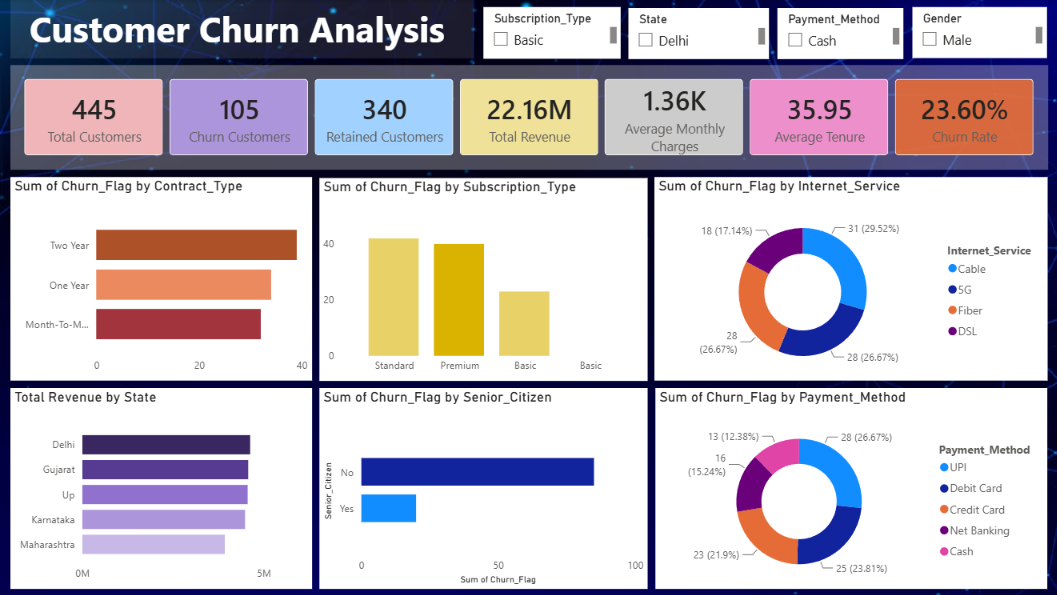

The page's visual inventory and layout, read from the dashboard file:
{"tool":"powerbi","page":{"name":"Page 1","canvas":[1280,720],"ordinal":0},"visuals":[{"type":"cardVisual","fields":{"Data":["DAX Measures.Total Customers","DAX Measures.Churn Customers","DAX Measures.Retained Customers","DAX Measures.Total Revenue","DAX Measures.Average Monthly Charges","DAX Measures.Average Tenure","DAX Measures.Churn Rate"]},"box":[14.7,78.6,1252,126.6],"z":0},{"type":"textbox","box":[14.7,0,559,70],"z":1000},{"type":"clusteredBarChart","fields":{"Category":["Clean_Churn_Data.Contract_Type"],"Y":["Sum(Clean_Churn_Data.Churn_Flag)"]},"box":[14.7,213.8,363.7,245.7],"z":2000},{"type":"columnChart","fields":{"Category":["Clean_Churn_Data.Subscription_Type"],"Y":["Sum(Clean_Churn_Data.Churn_Flag)"]},"box":[387,215,395.6,244.5],"z":3000},{"type":"barChart","fields":{"Category":["Clean_Churn_Data.State"],"Y":["DAX Measures.Total Revenue"]},"box":[14.7,468.1,363.7,242],"z":4000},{"type":"donutChart","fields":{"Category":["Clean_Churn_Data.Internet_Service"],"Y":["Sum(Clean_Churn_Data.Churn_Flag)"]},"box":[791.2,213.8,474.3,245.7],"z":5000},{"type":"donutChart","fields":{"Category":["Clean_Churn_Data.Payment_Method"],"Y":["Sum(Clean_Churn_Data.Churn_Flag)"]},"box":[792.5,468.1,473,242],"z":6000},{"type":"barChart","fields":{"Category":["Clean_Churn_Data.Senior_Citizen"],"Y":["Sum(Clean_Churn_Data.Churn_Flag)"]},"box":[387,468,396,242],"z":7000},{"type":"slicer","fields":{"Values":["Clean_Churn_Data.Subscription_Type"]},"box":[584.8,8.6,165.9,62.7],"z":8000},{"type":"slicer","fields":{"Values":["Clean_Churn_Data.State"]},"box":[760.5,9.8,169.6,61.4],"z":8001},{"type":"slicer","fields":{"Values":["Clean_Churn_Data.Payment_Method"]},"box":[939.9,9.8,152.4,61.4],"z":8002},{"type":"slicer","fields":{"Values":["Clean_Churn_Data.Gender"]},"box":[1102.1,8.6,162.2,61.4],"z":8003}]}

Visuals, with their boxes in screenshot pixels (x1, y1, x2, y2), scaled from the page's 1280x720 canvas onto the 1057x595 screenshot:
cardVisual - DAX Measures.Total Customers x DAX Measures.Churn Customers: [x1=12, y1=65, x2=1046, y2=170]
textbox: [x1=12, y1=0, x2=474, y2=58]
clusteredBarChart - Clean_Churn_Data.Contract_Type x Sum(Clean_Churn_Data.Churn_Flag): [x1=12, y1=177, x2=312, y2=380]
columnChart - Clean_Churn_Data.Subscription_Type x Sum(Clean_Churn_Data.Churn_Flag): [x1=320, y1=178, x2=646, y2=380]
barChart - Clean_Churn_Data.State x DAX Measures.Total Revenue: [x1=12, y1=387, x2=312, y2=587]
donutChart - Clean_Churn_Data.Internet_Service x Sum(Clean_Churn_Data.Churn_Flag): [x1=653, y1=177, x2=1045, y2=380]
donutChart - Clean_Churn_Data.Payment_Method x Sum(Clean_Churn_Data.Churn_Flag): [x1=654, y1=387, x2=1045, y2=587]
barChart - Clean_Churn_Data.Senior_Citizen x Sum(Clean_Churn_Data.Churn_Flag): [x1=320, y1=387, x2=647, y2=587]
slicer - Clean_Churn_Data.Subscription_Type: [x1=483, y1=7, x2=620, y2=59]
slicer - Clean_Churn_Data.State: [x1=628, y1=8, x2=768, y2=59]
slicer - Clean_Churn_Data.Payment_Method: [x1=776, y1=8, x2=902, y2=59]
slicer - Clean_Churn_Data.Gender: [x1=910, y1=7, x2=1044, y2=58]
